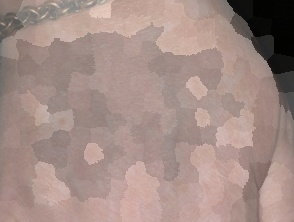vitiligo: (0, 5, 262, 221)
